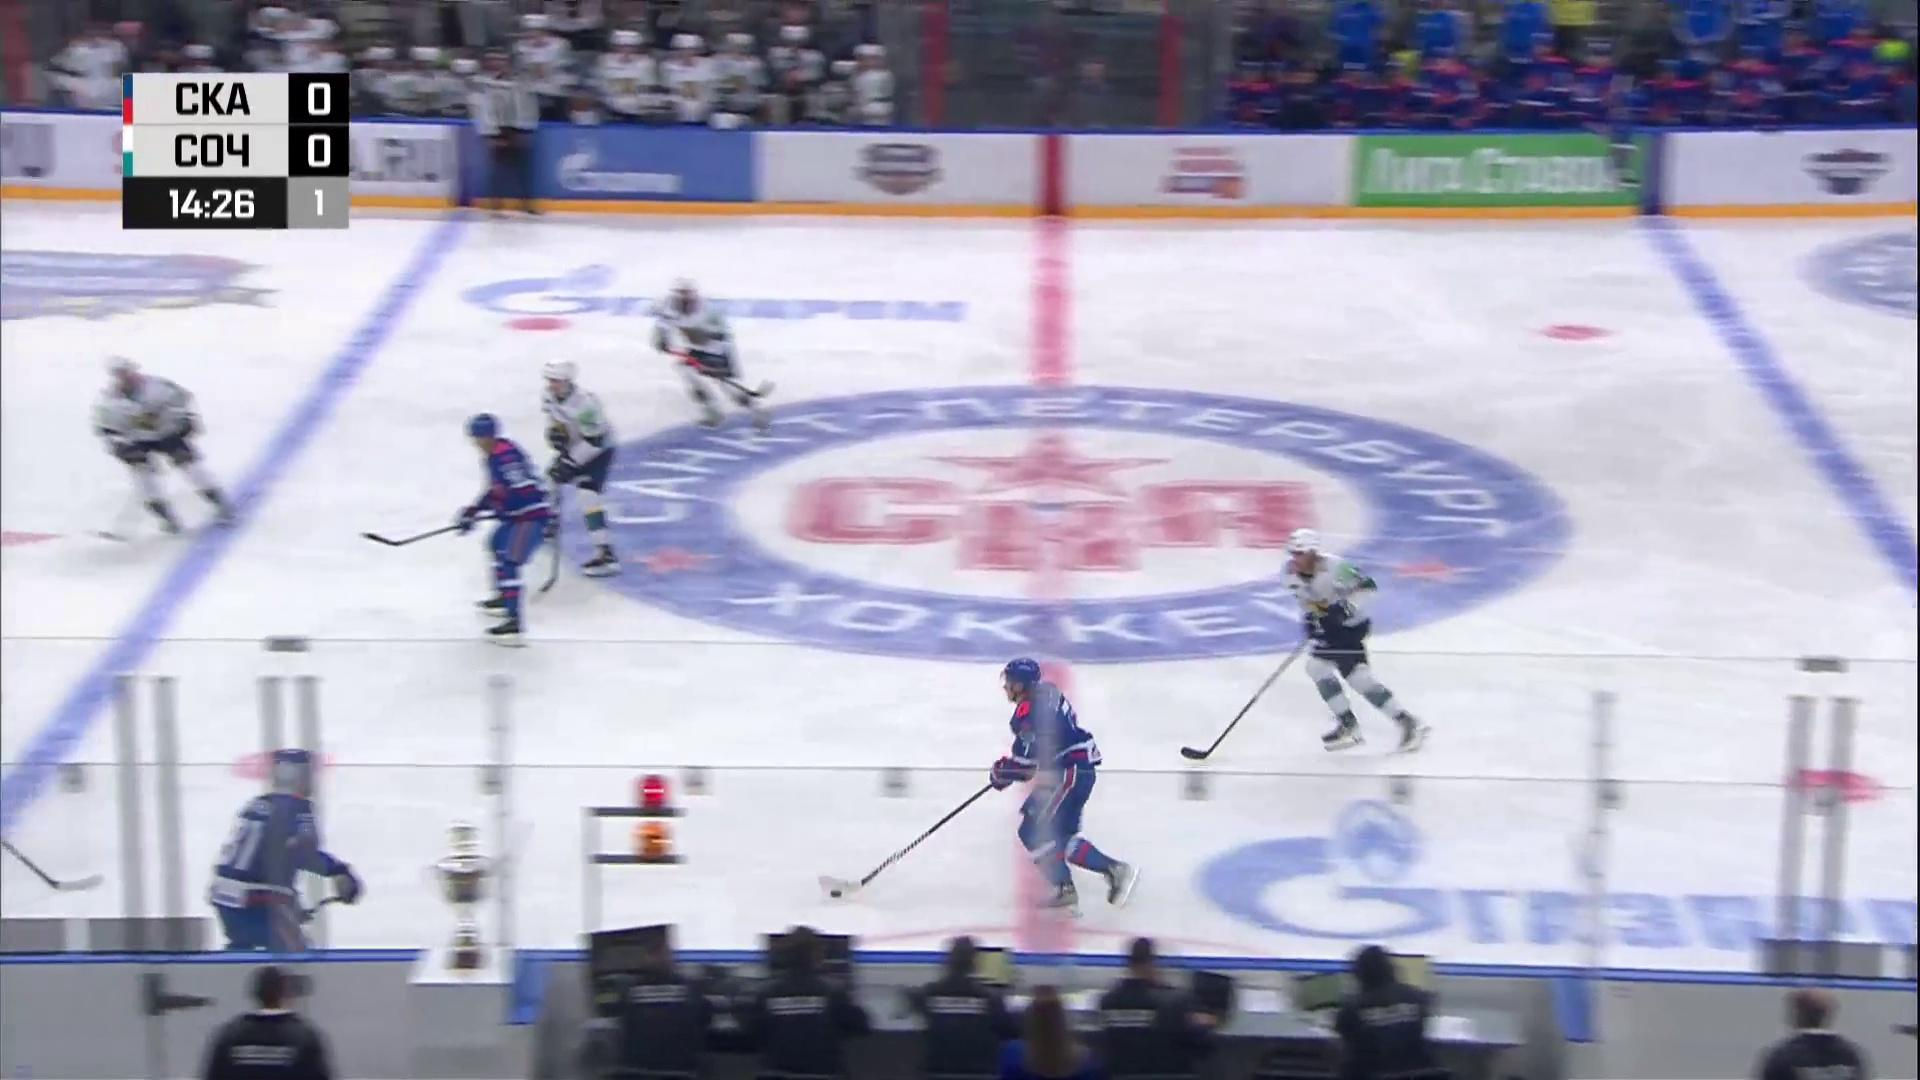ball: (831, 890, 841, 898)
